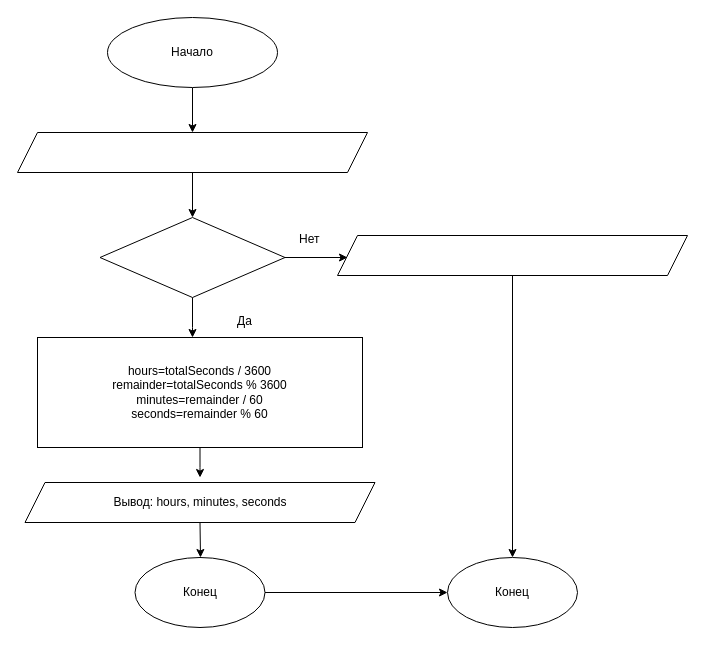
The diagram is 705 pixels wide and 645 high, and some of its shapes have lost their labels. Each missing label, with the box of its shape:
Ввод >=0?: (99, 216, 285, 298)
Ввод: totalSeconds: (16, 132, 368, 172)
Вывод ошибки: Некорректный ввод: (336, 234, 688, 276)
